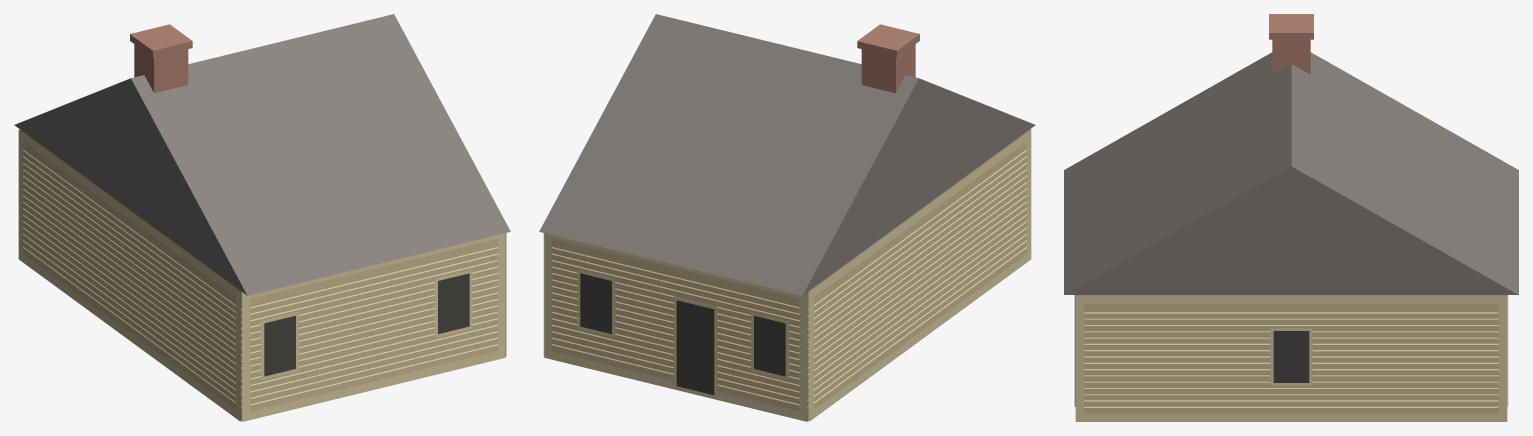
The model's file is recon_1835_blk_south_water_wells_d5_02__inferred_1835.glb.
The picture shows the model from 3 angles, left to right: view 1: azimuth 30°, elevation 25°; view 2: azimuth 150°, elevation 25°; view 3: azimuth 270°, elevation 25°; orthographic projection. The views are drawn at different scales.
Visible parts, largest first — view 1: recon_1835_blk_south_water_wells_d5_02__inferred_1835; view 2: recon_1835_blk_south_water_wells_d5_02__inferred_1835; view 3: recon_1835_blk_south_water_wells_d5_02__inferred_1835.
Boxes of the visible parts, x1,y1,x2,y2 form: recon_1835_blk_south_water_wells_d5_02__inferred_1835: (14,14,510,421); recon_1835_blk_south_water_wells_d5_02__inferred_1835: (539,14,1035,421); recon_1835_blk_south_water_wells_d5_02__inferred_1835: (1064,14,1518,421).
Size of the model in its own units: 6.55 by 6.94 by 9.95.
